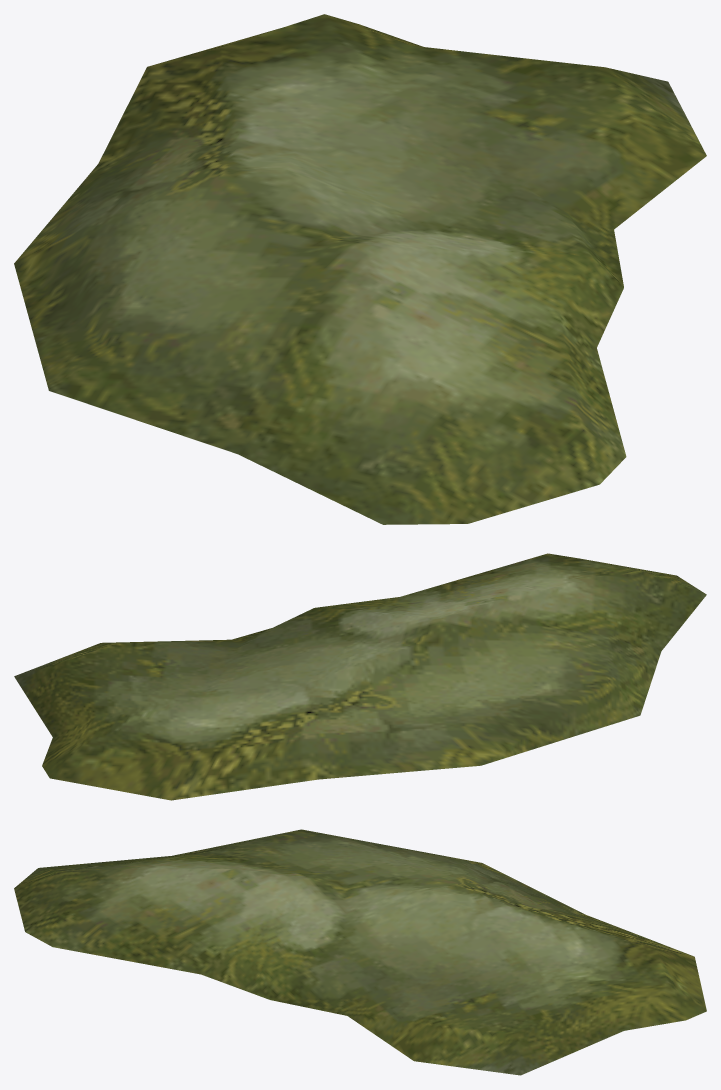
The model's file is Stone_4.FBX.
3 views of the same model, one above another, from view 1: azimuth 30°, elevation 25°; view 2: azimuth 150°, elevation 25°; view 3: azimuth 270°, elevation 25° (orthographic). The views are drawn at different scales.
Visible parts, largest first — view 1: C5_Stone_4; view 2: C5_Stone_4; view 3: C5_Stone_4.
Boxes of the visible parts, left/top/right/bottom form: C5_Stone_4: left=14, top=14, right=706, bottom=524; C5_Stone_4: left=14, top=553, right=706, bottom=800; C5_Stone_4: left=14, top=829, right=706, bottom=1075.
Size of the model in its own units: 83.17 by 8.03 by 102.
